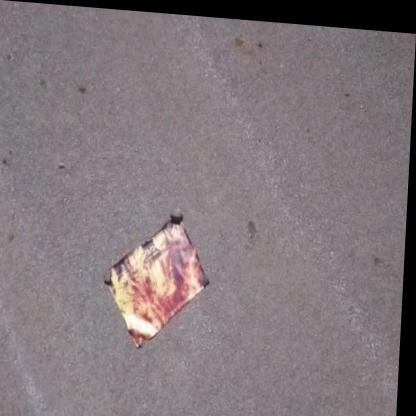fire-poster: (104, 201, 217, 351)
